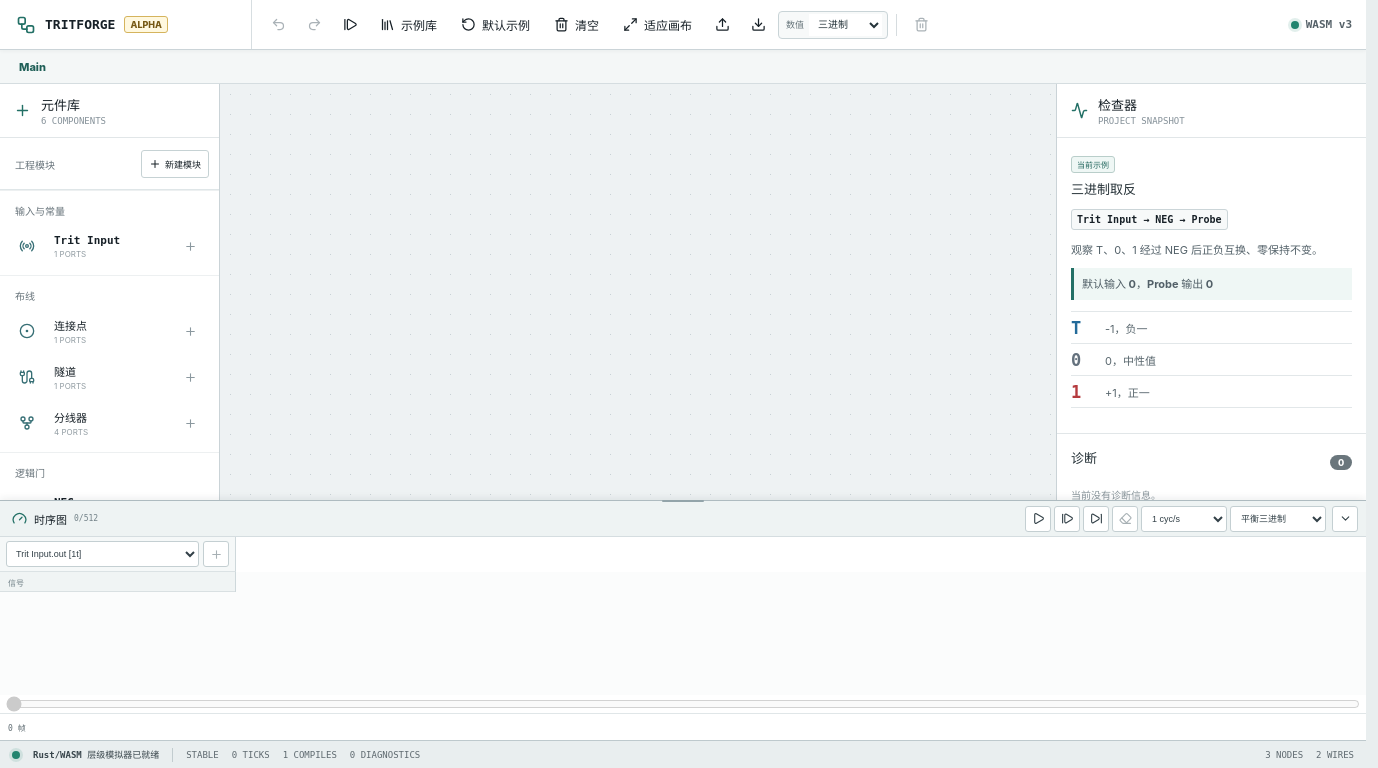
Scenario: App › disables module placements that would create a recursive hierarchy
Click the button "新建模块".
click(175, 164)  # box [141, 150, 209, 178]
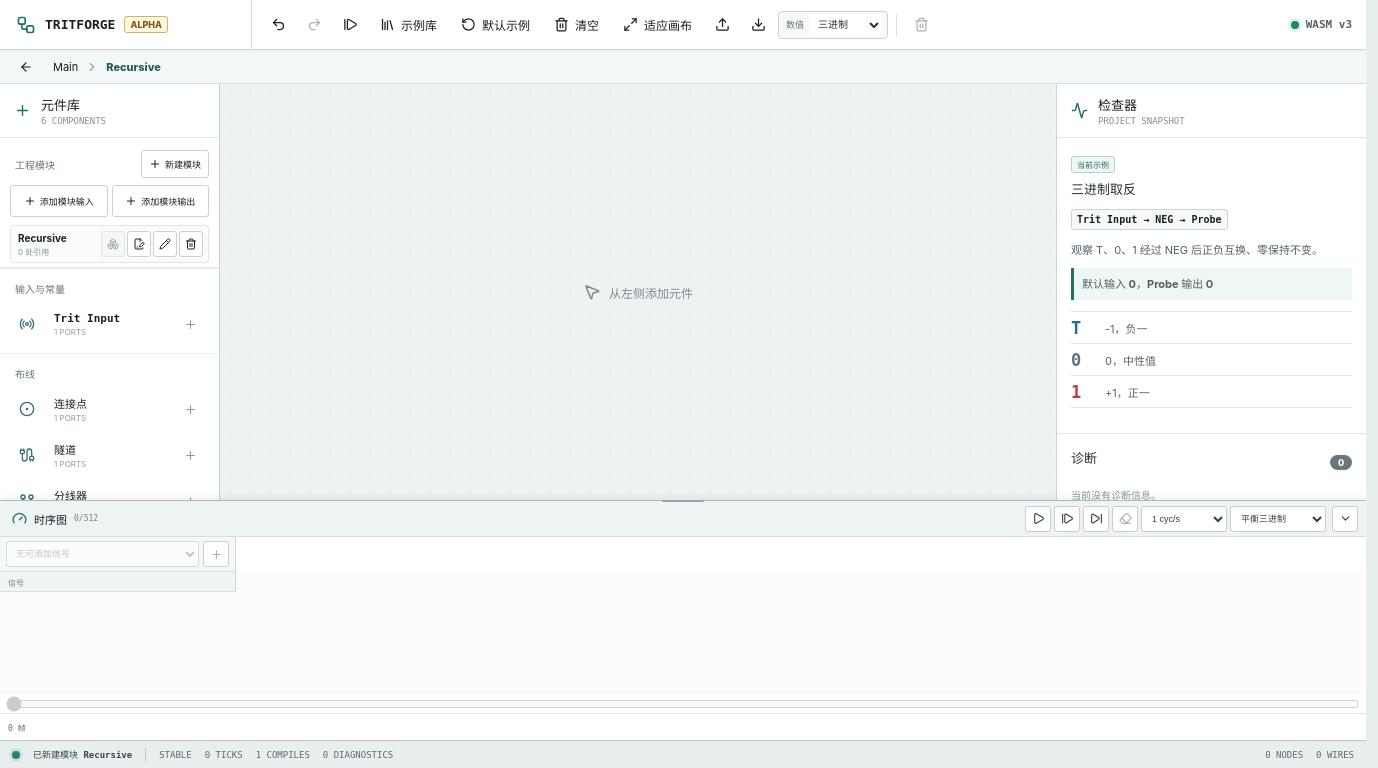
Result: the button named "放置 Recursive" is disabled at [101, 231, 125, 257]
